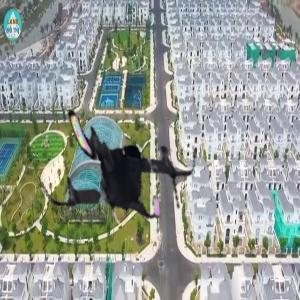drone: (33, 74, 203, 244)
